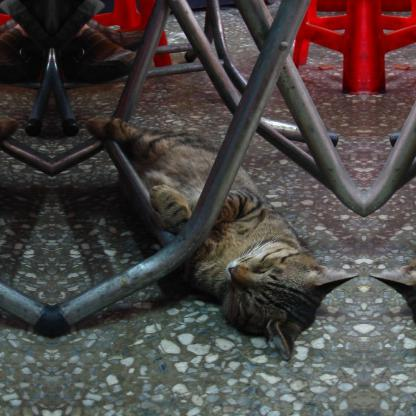Cat: (87, 116, 357, 354)
